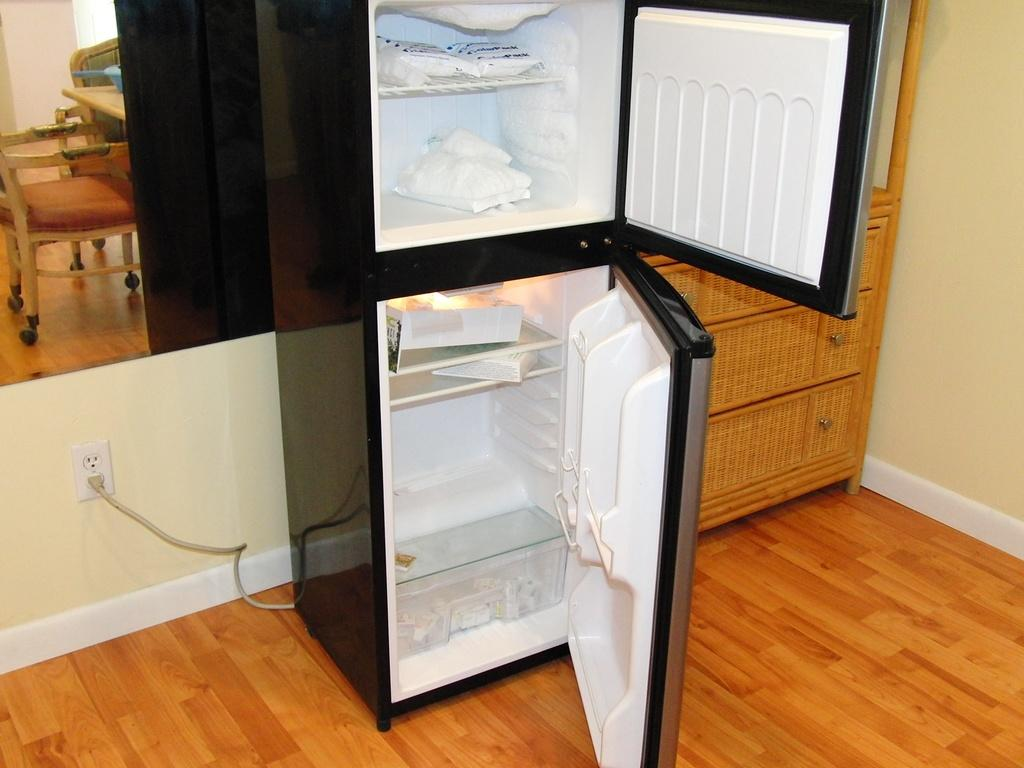cabinet_door: (716, 404, 862, 461), (720, 328, 868, 376)
